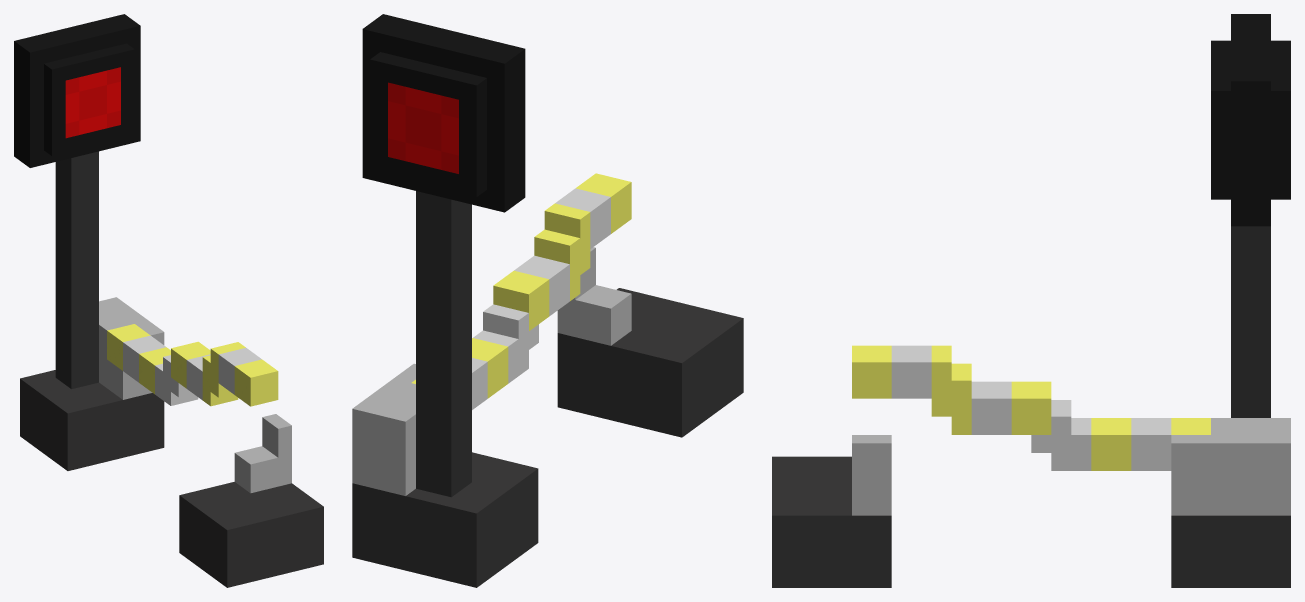
The model's file is ampel closed 3.obj.
3 views of the same model, side by side, from view 1: azimuth 30°, elevation 25°; view 2: azimuth 150°, elevation 25°; view 3: azimuth 270°, elevation 25° (orthographic). The views are drawn at different scales.
Bounding box in the file's own units: 0.8 × 2.8 × 2.6.
Materials: 1 (1 with a texture image).
